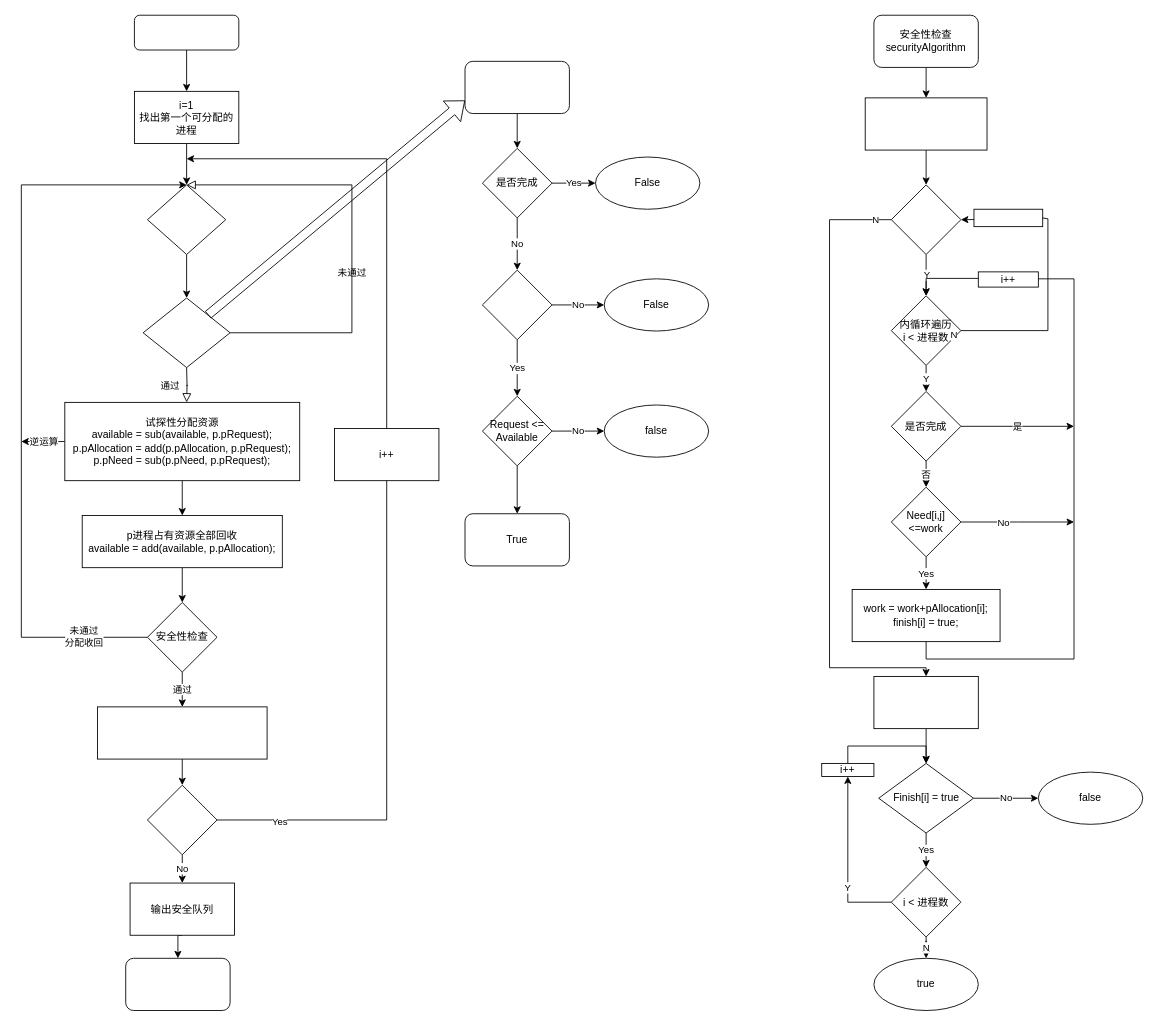
Some shapes in this 1158 by 1026 pixel diagram are drawn without their labels. Each missing label, with the box of its shape:
check(p): (464, 60, 569, 114)
check(p) 检查: (142, 297, 230, 368)
i < 进程数 外循环: (147, 784, 217, 855)
j++: (973, 208, 1043, 227)
Request <= Need: (482, 269, 552, 340)
work = available; finish = [false×进程数]; j = 0: (864, 97, 987, 150)
内循环 遍历进程: (147, 184, 226, 254)
外循环 j<进程数: (890, 184, 961, 254)
开始: (134, 14, 239, 50)
正式分配资源 p.setFinish(true); 加入安全队列: (97, 706, 267, 759)
结束: (125, 957, 230, 1011)
遍历finish i = 0: (873, 676, 978, 729)
